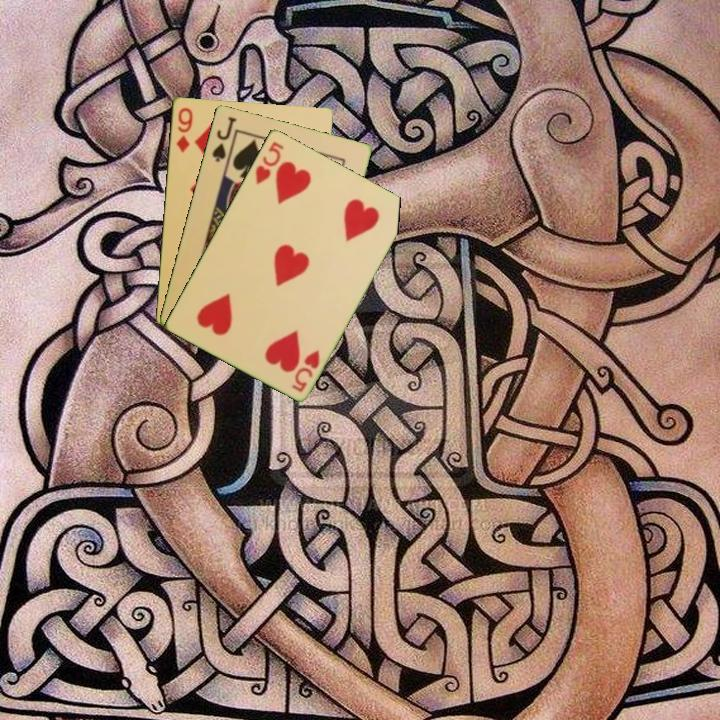5h: (251, 137, 287, 187), (288, 346, 323, 395)
9d: (172, 104, 195, 155)
Js: (208, 113, 239, 165)
